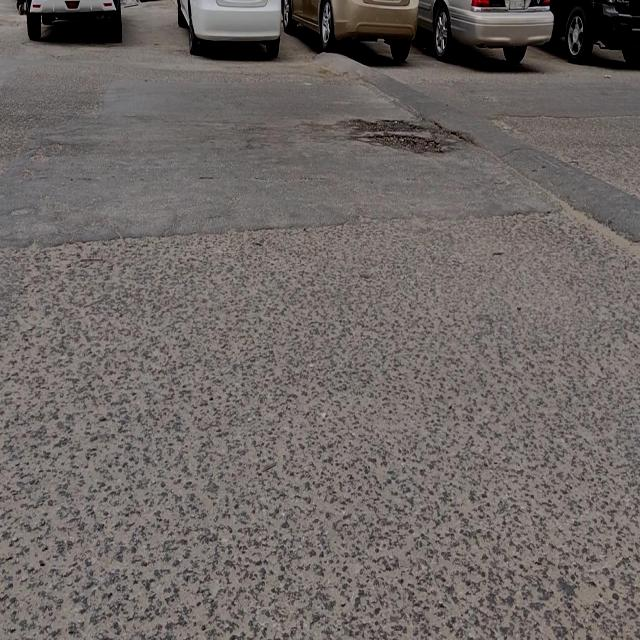Potholes: (345, 116, 455, 156)
